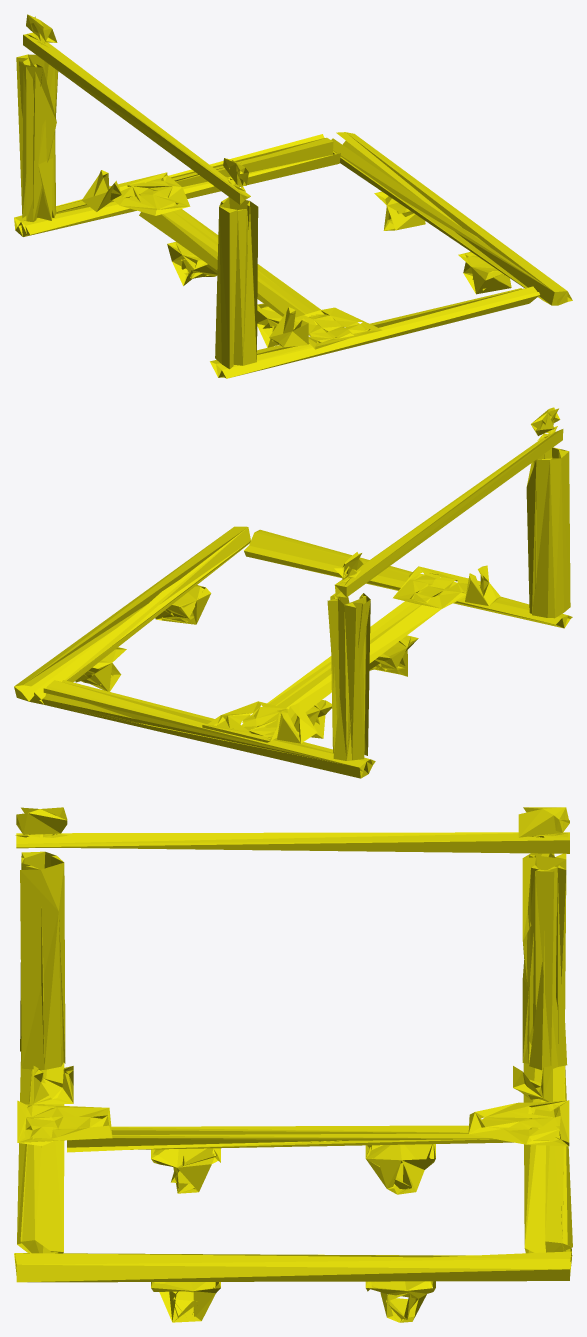
The model's file is sled_simple.dae.
The picture shows the model from 3 angles, top to bottom: view 1: azimuth 30°, elevation 25°; view 2: azimuth 150°, elevation 25°; view 3: azimuth 270°, elevation 25°; orthographic projection. The views are drawn at different scales.
Visible parts, largest first — view 1: sled; view 2: sled; view 3: sled.
Boxes of the visible parts, left/top/right/bottom form: sled: left=14, top=14, right=572, bottom=378; sled: left=14, top=407, right=572, bottom=778; sled: left=14, top=807, right=572, bottom=1322.
Bounding box in the file's own units: 0.5072 × 0.556 × 0.3438.
